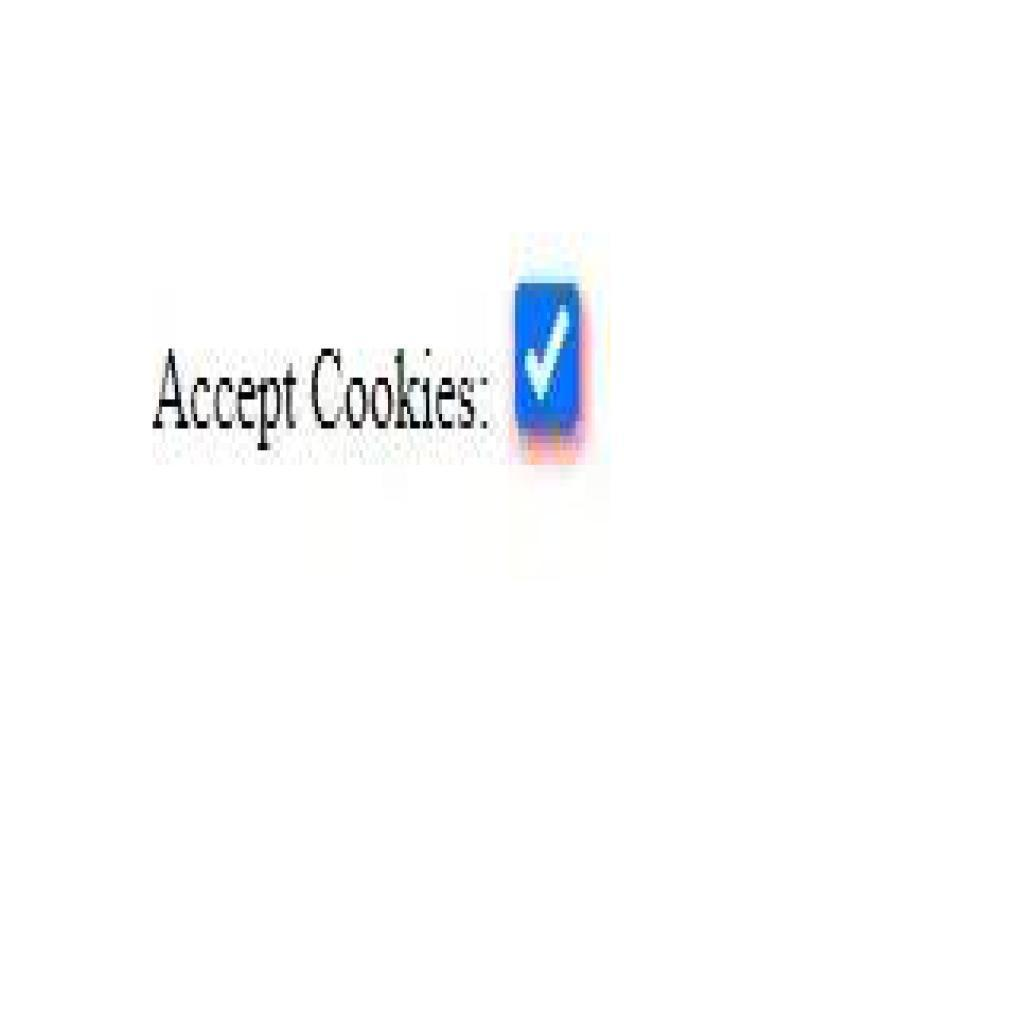checkbox: (510, 273, 587, 445)
